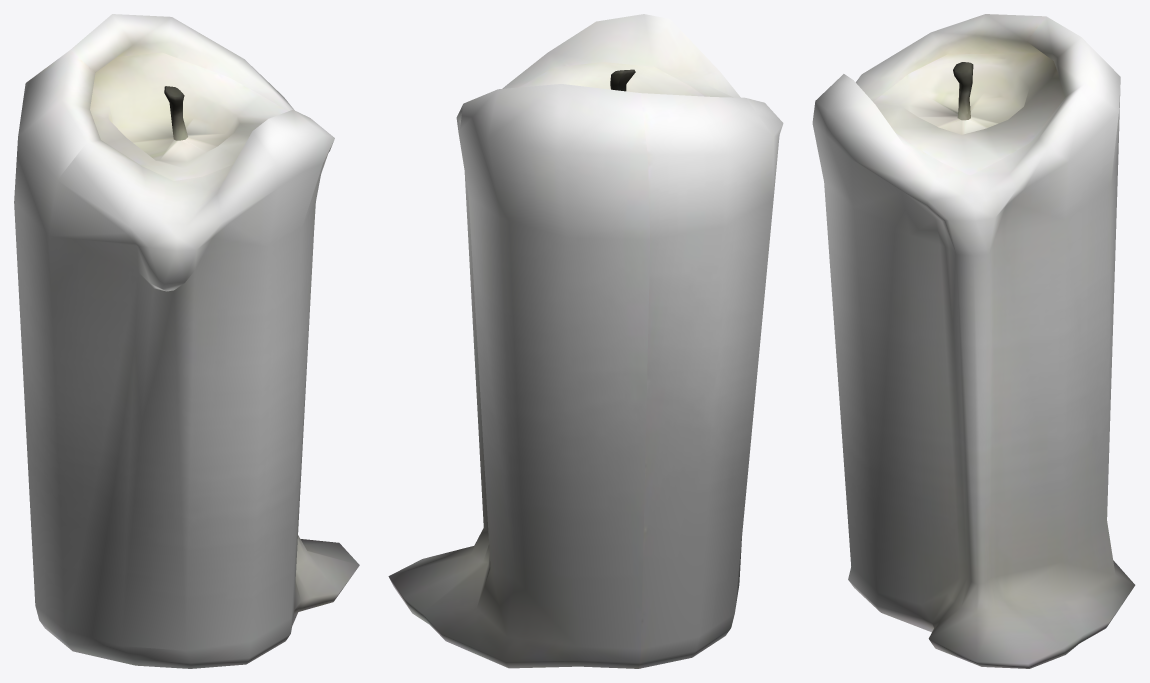
3 views of the same model, side by side, from view 1: azimuth 30°, elevation 25°; view 2: azimuth 150°, elevation 25°; view 3: azimuth 270°, elevation 25° (orthographic). The views are drawn at different scales.
Visible parts, largest first — view 1: body0_model0_lod0_mesh0; view 2: body0_model0_lod0_mesh0; view 3: body0_model0_lod0_mesh0.
Part boxes in pixels (x1,y1,x2,y2): body0_model0_lod0_mesh0: [14, 14, 359, 668]; body0_model0_lod0_mesh0: [388, 14, 783, 668]; body0_model0_lod0_mesh0: [812, 14, 1135, 668].
Bounding box in the file's own units: 13.74 × 22.26 × 11.95.
Materials: 1 (1 with a texture image).
